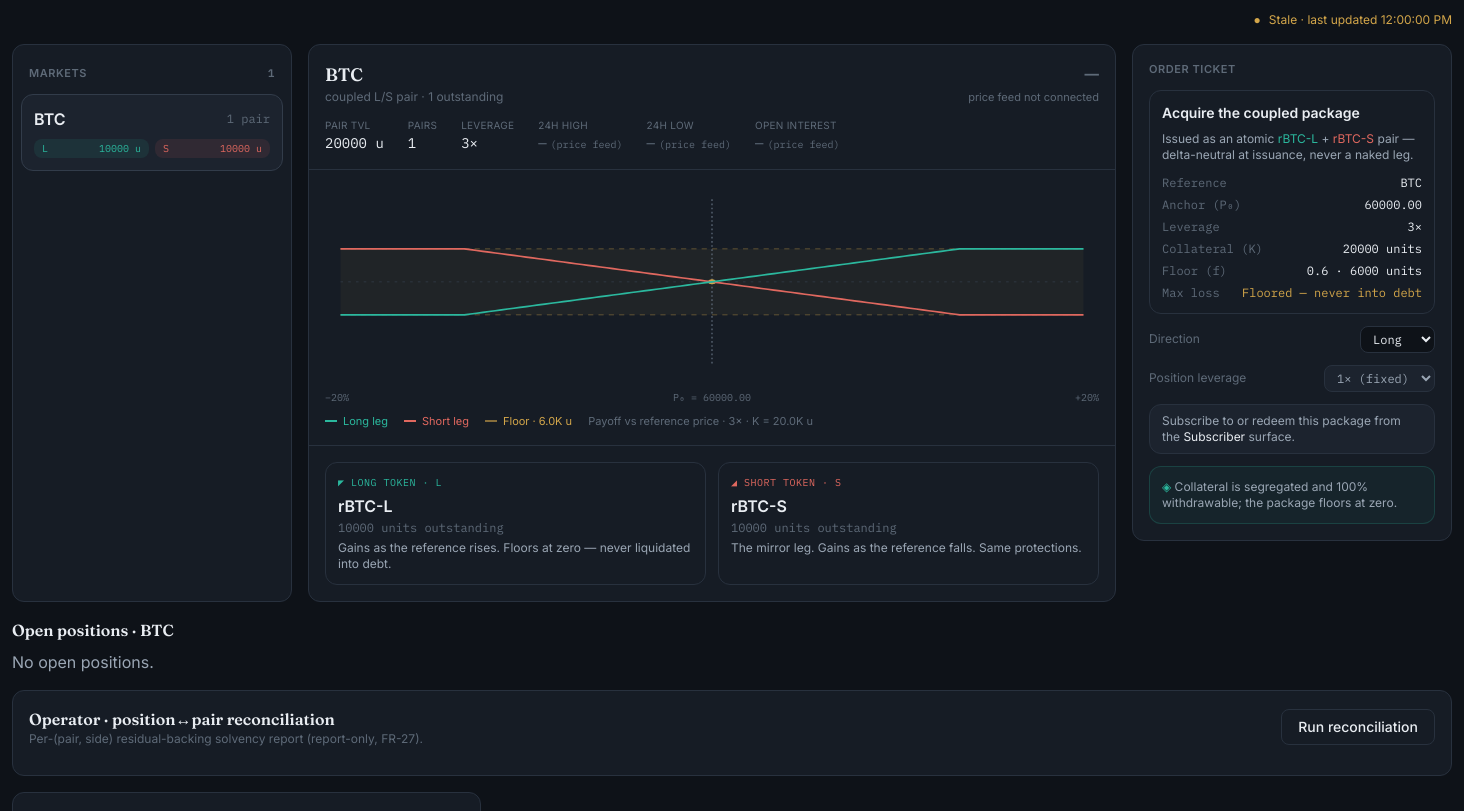
Operator reconciliation panel (Story 8.5, FR-27) › degrades to a clean "not available on this deployment" state on a 503
Click the button "Run reconciliation" at [1358, 727], box [1281,709,1435,745]
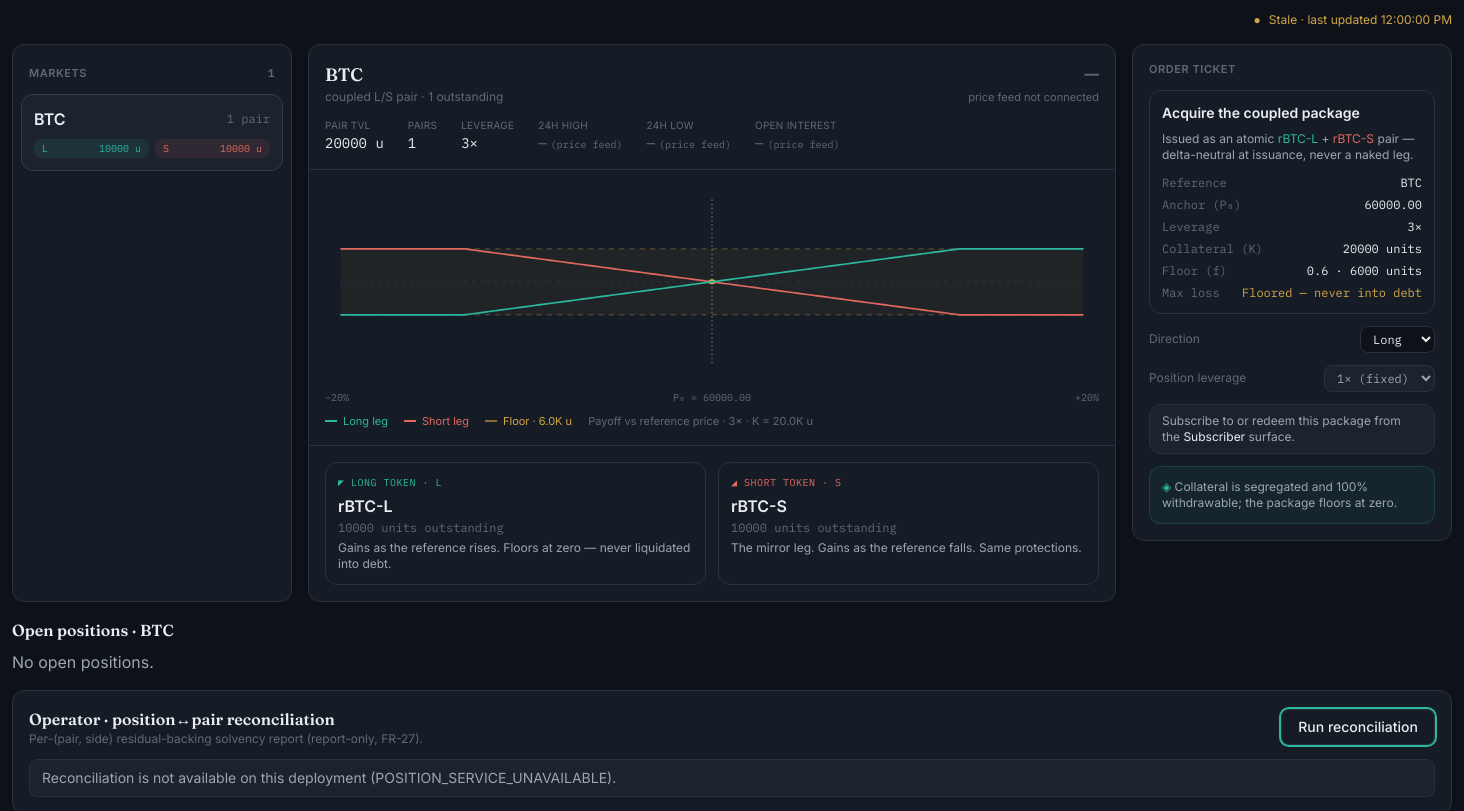
expect the text "not available on this deployment" is shown: met, box [42,769,375,786]
expect the text "POSITION_SERVICE_UNAVAILABLE" is shown: met, box [375,769,607,786]
